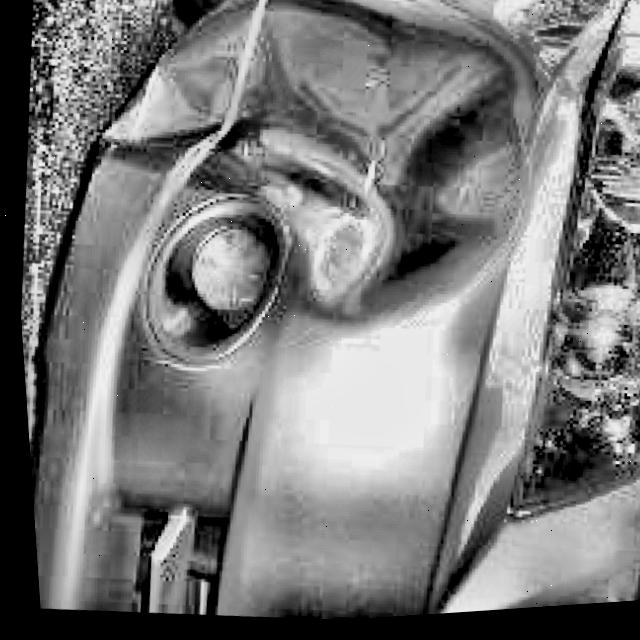bumper_dent: (73, 0, 555, 369)
